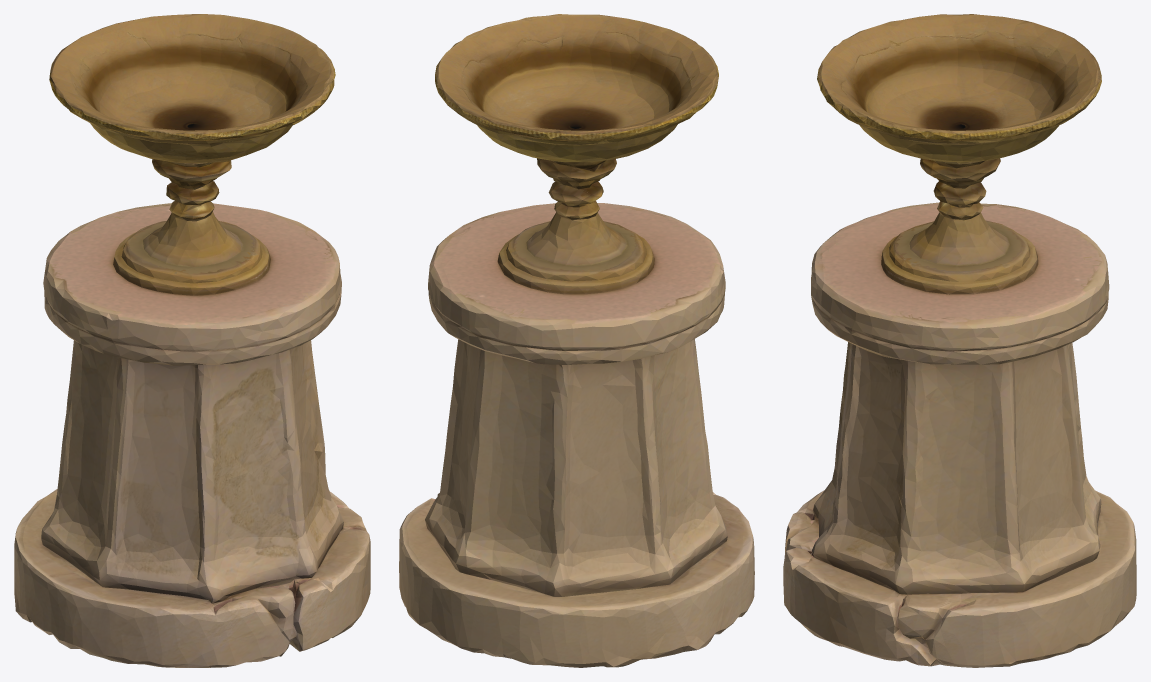
File: Generate_a_medium_hig_0510160637_texture.fbx
The picture shows the model from 3 angles, left to right: view 1: azimuth 30°, elevation 25°; view 2: azimuth 150°, elevation 25°; view 3: azimuth 270°, elevation 25°; orthographic projection.
Parts seen in each view (by area): view 1: temp; view 2: temp; view 3: temp.
Part boxes in pixels (x1=…): temp: x1=14, y1=14, x2=370, y2=667; temp: x1=399, y1=14, x2=754, y2=667; temp: x1=783, y1=14, x2=1136, y2=667.
Size of the model in its own units: 123 by 200 by 122.
1 material, 1 textured.
